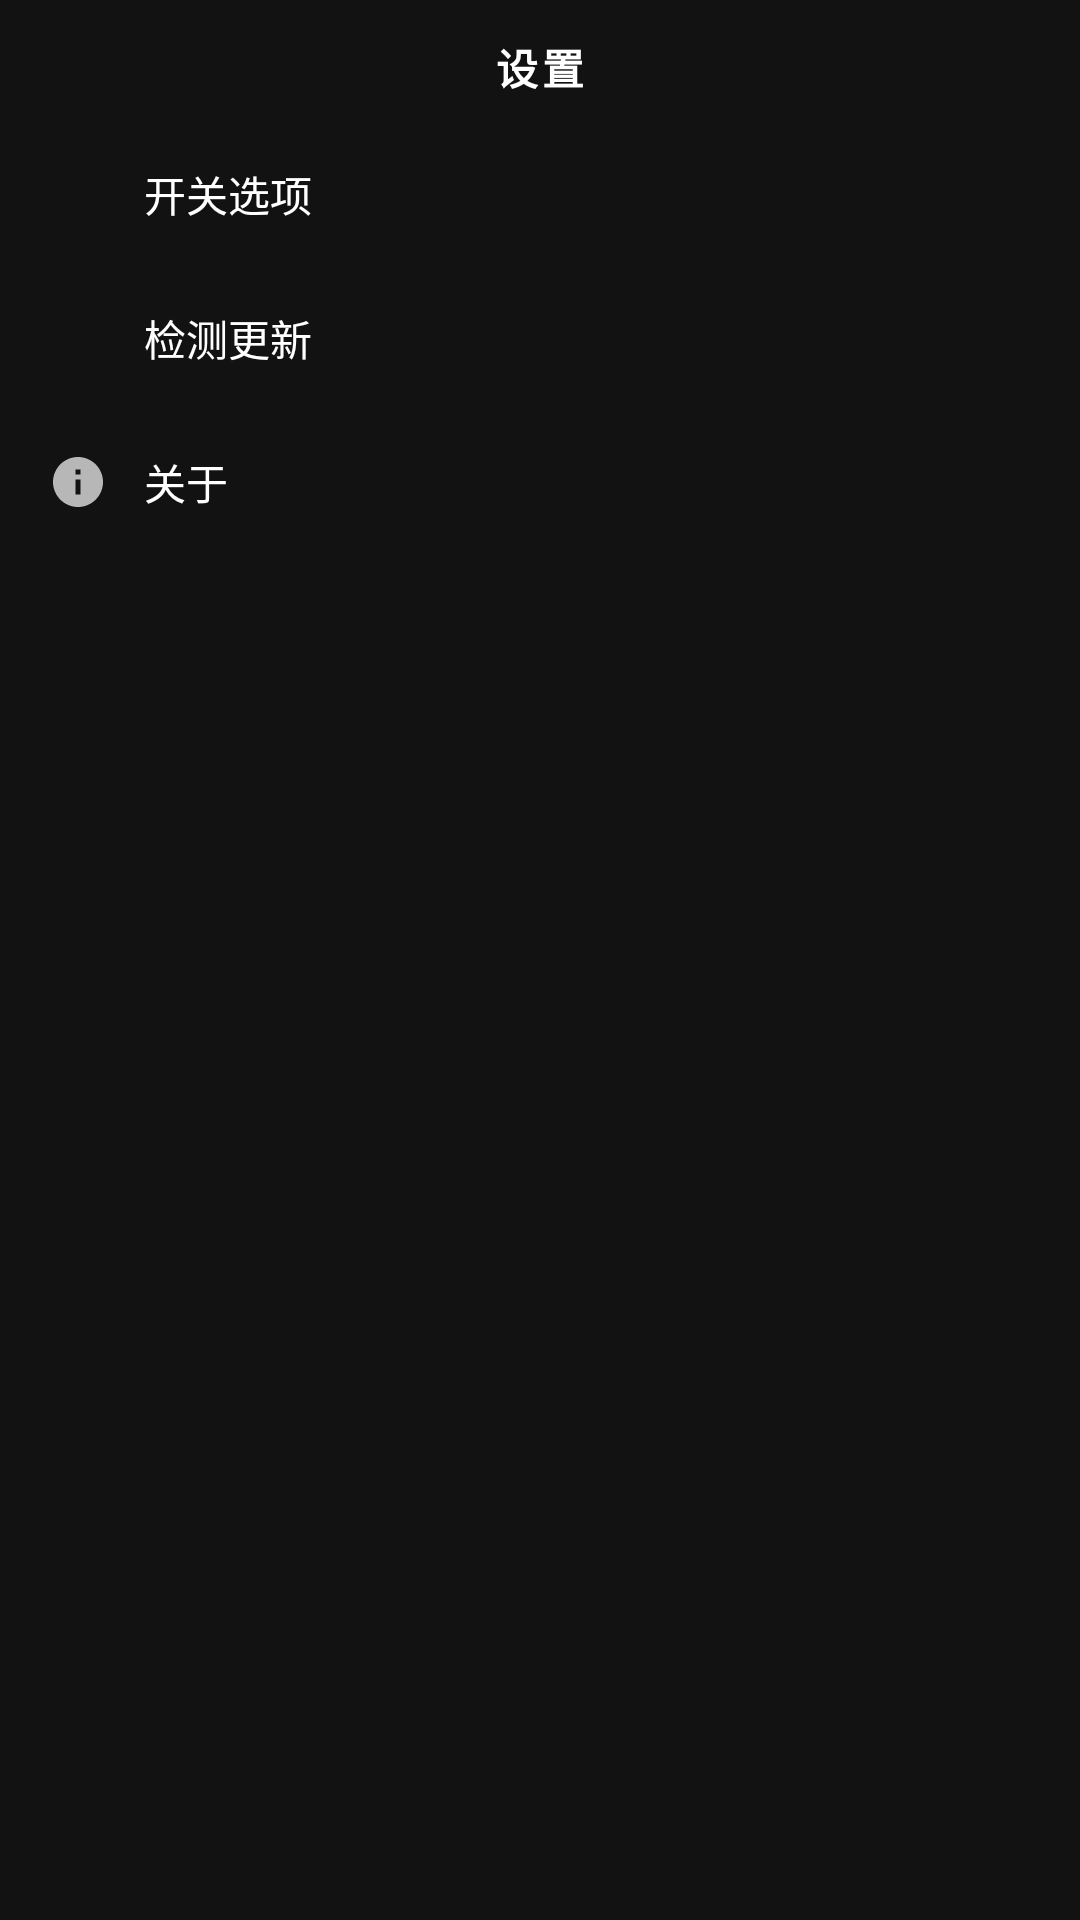

Where icons sit on this 1080px×1920px app screen, as [x1,y1,x2,y2]:
info: [53,457,103,507]
